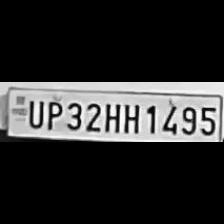1: (141, 102, 157, 136)
2: (82, 100, 100, 134)
3: (64, 99, 82, 131)
4: (159, 101, 177, 135)
5: (196, 104, 218, 136)
9: (178, 103, 196, 135)
H: (120, 102, 140, 134), (102, 100, 120, 134)
P: (44, 98, 62, 132)
U: (24, 97, 42, 129)
